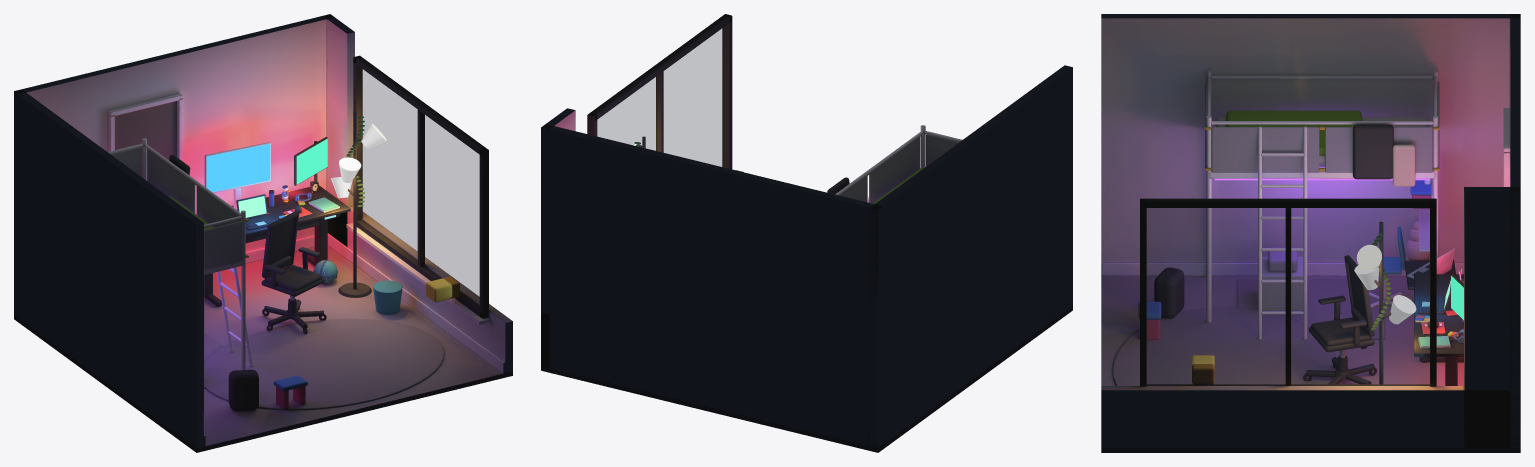
The model's file is room.glb.
The picture shows the model from 3 angles, left to right: view 1: azimuth 30°, elevation 25°; view 2: azimuth 150°, elevation 25°; view 3: azimuth 270°, elevation 25°; orthographic projection. The views are drawn at different scales.
Visible parts, largest first — view 1: room_shell, room_props, window_glass, screen_main, screen_side; view 2: room_shell, window_glass, room_props; view 3: room_shell, window_glass, room_props, led_strip_bed, screen_side.
Part boxes in pixels (x1,y1,x2,y2): room_shell: [14, 14, 512, 452]; room_props: [108, 55, 488, 410]; window_glass: [361, 69, 479, 305]; screen_main: [207, 144, 270, 191]; screen_side: [296, 138, 327, 184]; room_shell: [541, 65, 1072, 452]; window_glass: [597, 28, 723, 166]; room_props: [587, 14, 962, 204]; room_shell: [1101, 14, 1520, 452]; window_glass: [1147, 208, 1429, 385]; room_props: [1138, 70, 1463, 386]; led_strip_bed: [1214, 178, 1429, 180]; screen_side: [1451, 276, 1463, 319].
Bounding box in the file's own units: 3.7 × 2.55 × 3.7.
Materials: 8 (2 with a texture image).
